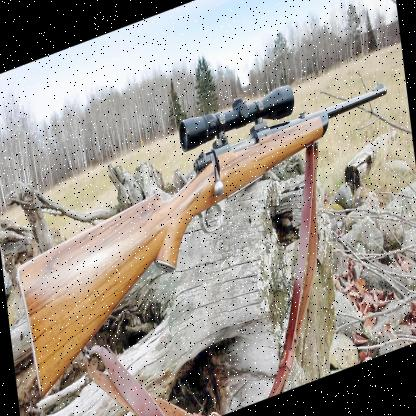rifle: (4, 44, 406, 402)
